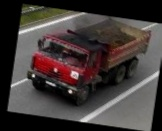truck: (23, 8, 153, 114)
